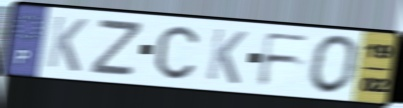C: (153, 24, 201, 82)
F: (255, 30, 313, 88)
K: (44, 13, 91, 74), (204, 26, 250, 87)
O: (307, 33, 362, 97)
Z: (86, 18, 146, 79)
